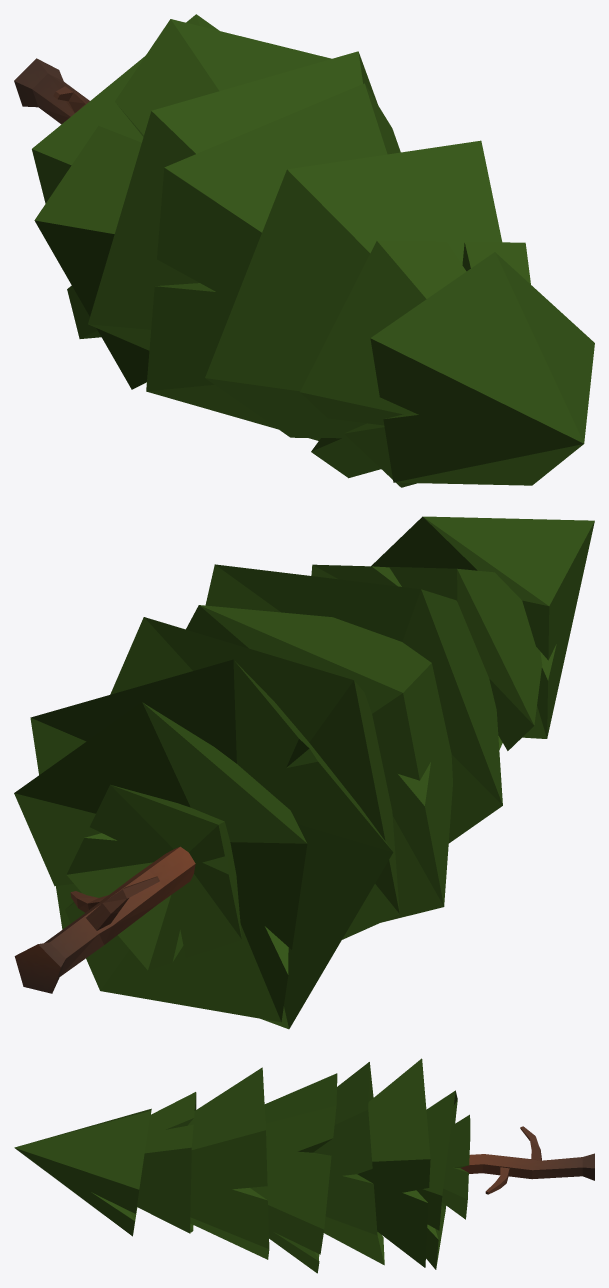
Rendered from tree1.fbx.
3 views of the same model, one above another, from view 1: azimuth 30°, elevation 25°; view 2: azimuth 150°, elevation 25°; view 3: azimuth 270°, elevation 25° (orthographic). The views are drawn at different scales.
Visible parts, largest first — view 1: Pine_Variant_A_Dark_Adult_C.001; view 2: Pine_Variant_A_Dark_Adult_C.001; view 3: Pine_Variant_A_Dark_Adult_C.001.
Part boxes in pixels (box(x1,y1,x2,y2)): Pine_Variant_A_Dark_Adult_C.001: box(14, 14, 594, 487); Pine_Variant_A_Dark_Adult_C.001: box(14, 516, 594, 1029); Pine_Variant_A_Dark_Adult_C.001: box(14, 1058, 594, 1273).
Bounding box in the file's own units: 615 × 613 × 1627.
